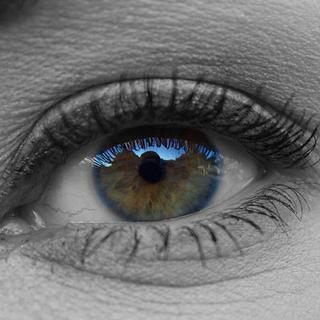iris: (93, 103, 222, 232)
